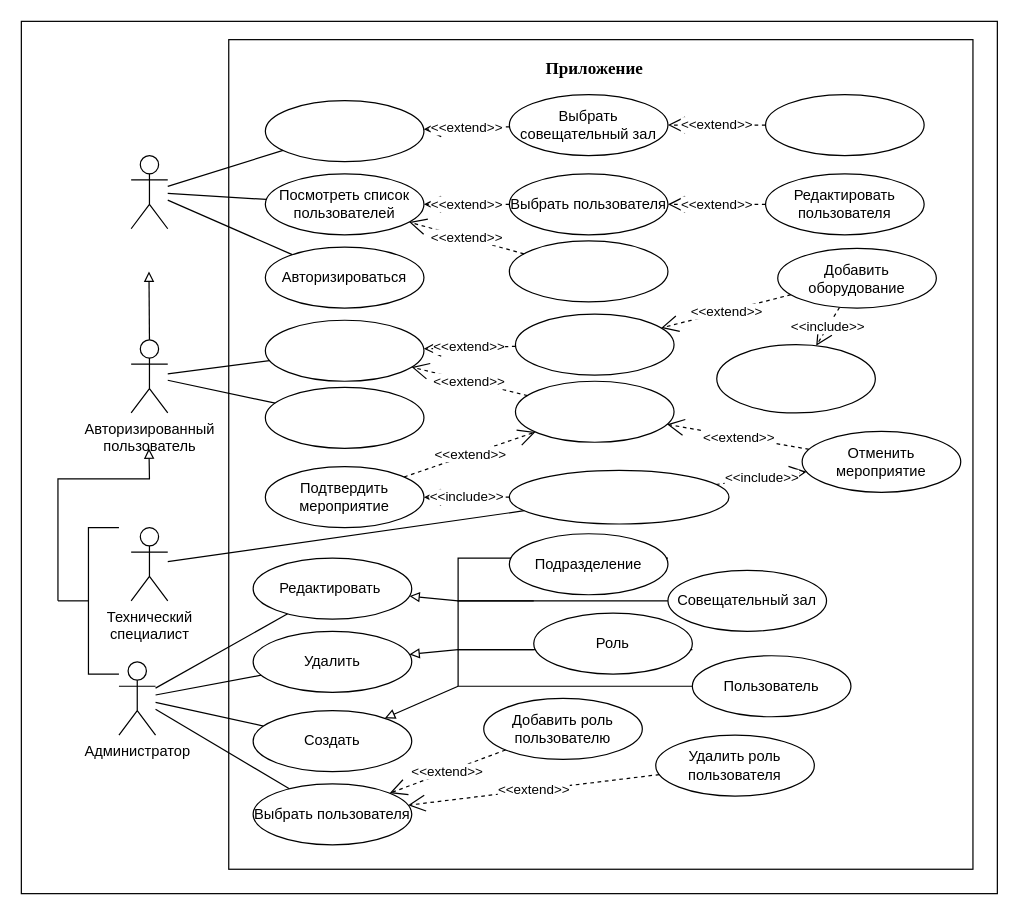
This 1019x915 diagram has some shape labels left out. Here are the shapes that lost their labels. From the top down, the centre of each, then its label:
At (x=344, y=130): "Посмотреть дерево подразделений".
At (x=844, y=124): "Посмотреть подразделения зала".
At (x=149, y=191): "Неавторизированный пользователь".
At (x=588, y=271): "Создать пользователя".
At (x=344, y=350): "Посмотреть совещания".
At (x=594, y=344): "Создать мероприятие".
At (x=795, y=378): "Отправить уведомление тех.специалистам".
At (x=344, y=417): "Выйти из аккаунта".
At (x=594, y=411): "Выбрать мероприятие".
At (x=618, y=496): "Отправить уведомление владельцу и тех. специалистам".
